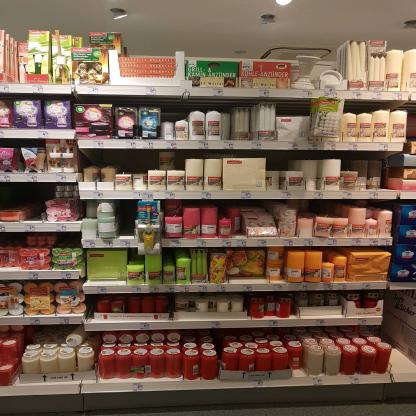empty_space: (390, 325, 416, 372), (299, 290, 341, 319), (117, 200, 134, 239), (31, 184, 42, 222)
